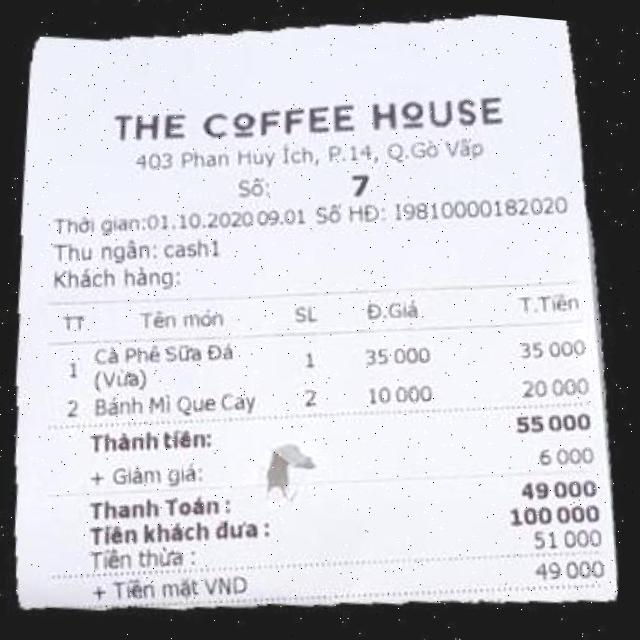Date: (138, 195, 257, 241)
Store_Name: (95, 49, 518, 180)
amount_number: (512, 470, 605, 508)
label_total: (84, 483, 228, 534)
